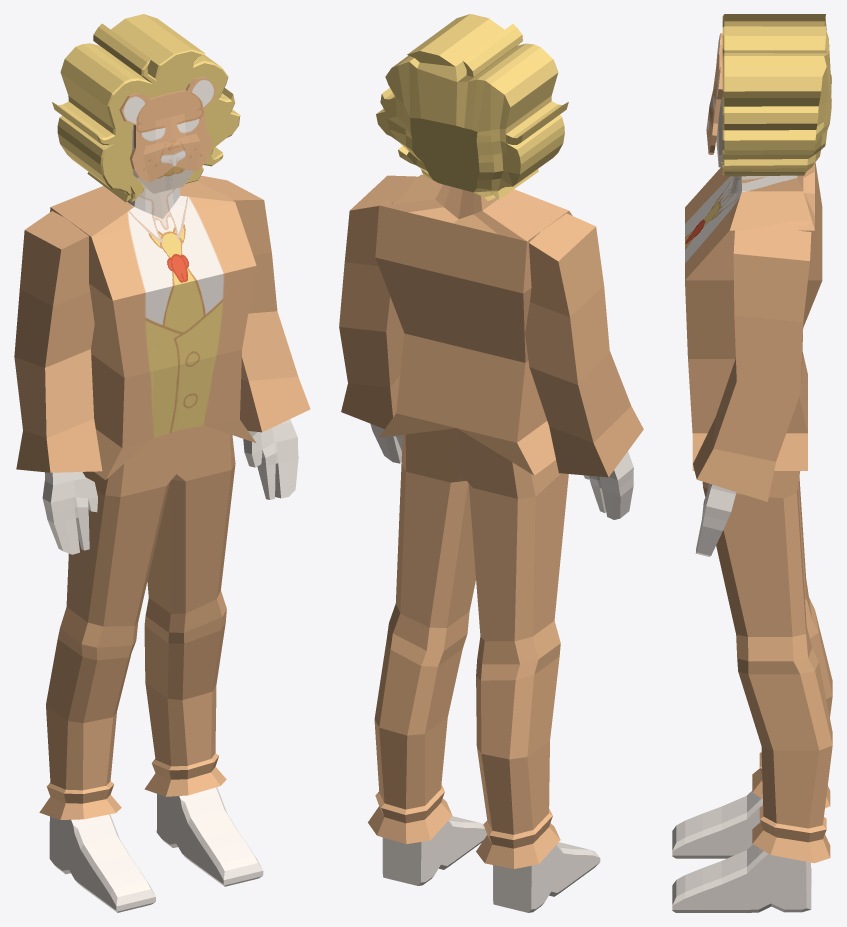
Rendered from lionfull.fbx.
The picture shows the model from 3 angles, left to right: view 1: azimuth 30°, elevation 25°; view 2: azimuth 150°, elevation 25°; view 3: azimuth 270°, elevation 25°; orthographic projection. The views are drawn at different scales.
Visible parts, largest first — view 1: Cube.002, Cube, Cube.007, Cube.004, Cube.003, Cube.005, Cube.008, Cube.001; view 2: Cube.002, Cube, Cube.007, Cube.004, Cube.003, Cube.008; view 3: Cube.002, Cube.007, Cube, Cube.004, Cube.003, Cube.008, Cube.005, Cube.001.
Part boxes in pixels (box(x1,y1,x2,y2)): Cube.002: box(39, 425, 235, 819); Cube: box(50, 177, 256, 479); Cube.007: box(14, 175, 310, 472); Cube.004: box(52, 14, 240, 202); Cube.003: box(49, 787, 263, 912); Cube.005: box(119, 76, 215, 182); Cube.008: box(42, 419, 298, 554); Cube.001: box(132, 124, 193, 193); Cube.002: box(368, 428, 568, 868); Cube: box(375, 174, 572, 475); Cube.007: box(339, 175, 643, 477); Cube.004: box(376, 14, 568, 200); Cube.003: box(382, 816, 600, 912); Cube.008: box(370, 423, 633, 519); Cube.002: box(702, 471, 832, 863); Cube.007: box(693, 220, 811, 501); Cube: box(685, 162, 822, 470); Cube.004: box(720, 14, 831, 176); Cube.003: box(672, 791, 811, 912); Cube.008: box(695, 483, 736, 556); Cube.005: box(706, 33, 722, 154); Cube.001: box(716, 95, 722, 167).
Bounding box in the file's own units: 95.57 × 289 × 49.08.
